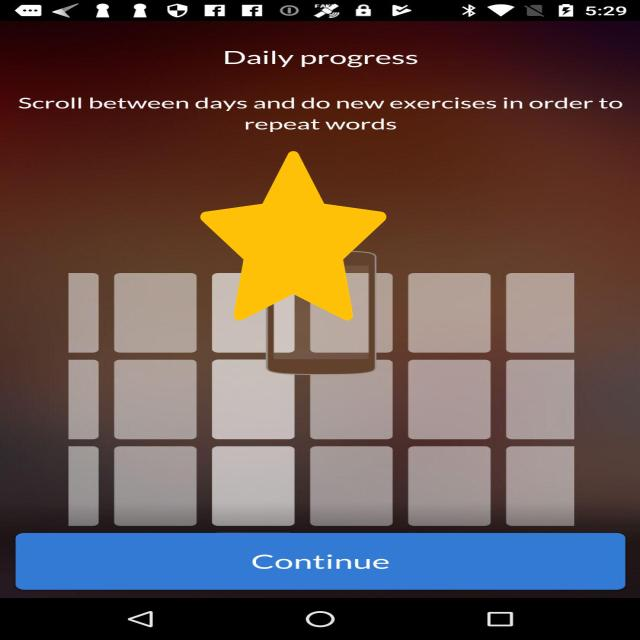forced continuity: (200, 151, 387, 321)
